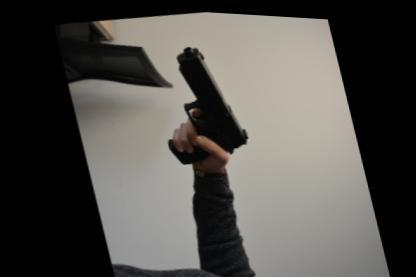pistol: (143, 35, 252, 165)
